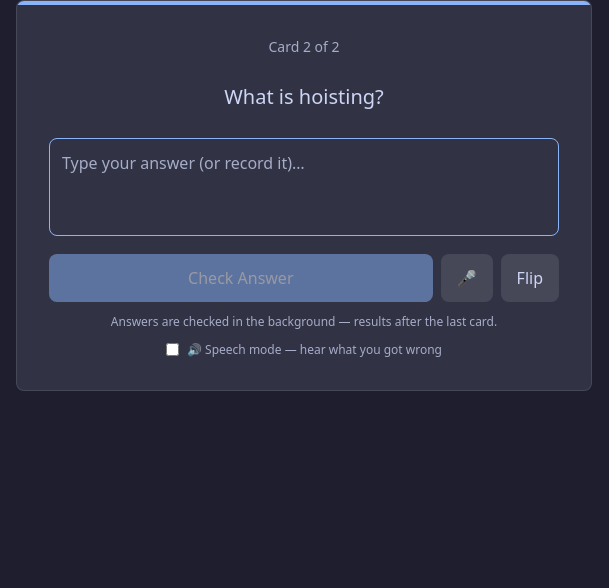
Scenario: ReviewSession › resumes a session left half-answered instead of re-asking
Check: the text "What is hoisting?" is shown, box [224,83,384,110]
Check: the text "Card 2 of 2" is shown, box [268,37,340,56]
# ...and the restored answer and its grade are still there at the end.
Click the button "Flip" at (530, 278), box [501,254,559,302]
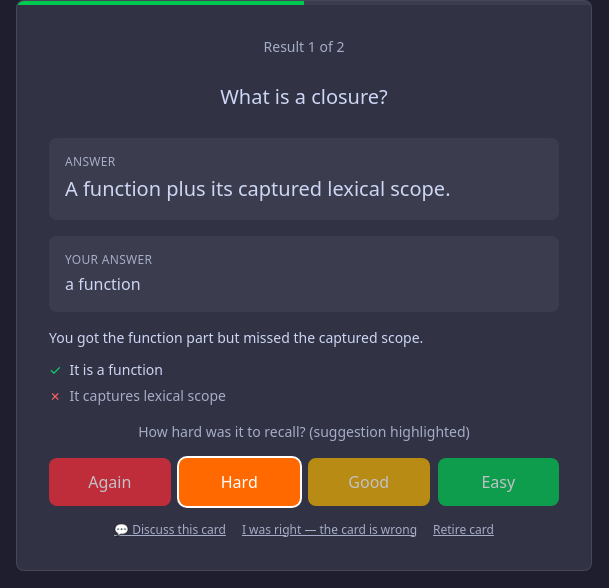
Check: the text "Result 1 of 2" is shown, box [264,37,344,56]
Check: the text "a function" is shown, box [65,272,141,294]
Check: the text "You got the function part but missed the captured scope." is shown, box [49,328,423,346]
